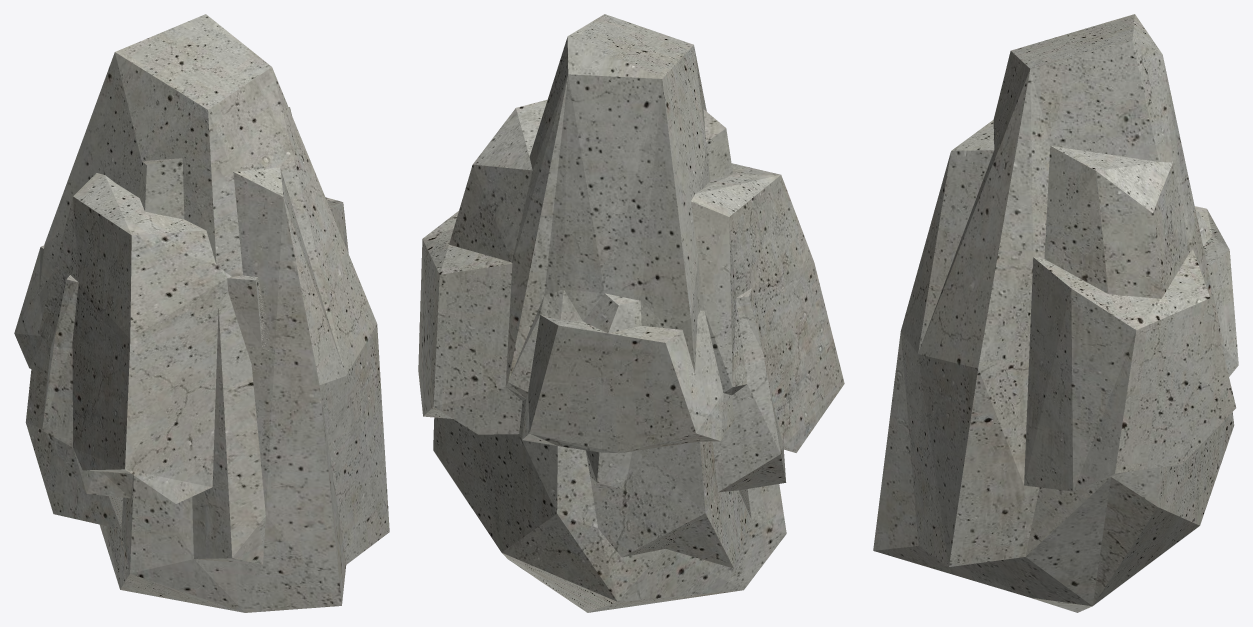
The model's file is aster v4.gltf.
3 renders of one model, left to right at view 1: azimuth 30°, elevation 25°; view 2: azimuth 150°, elevation 25°; view 3: azimuth 270°, elevation 25°, orthographic. The views are drawn at different scales.
Visible parts, largest first — view 1: Aster-solid, aster.014, aster.007, aster.005, aster.003, Aster-exploded, aster.004; view 2: Aster-solid, Aster-exploded, aster.003, aster.016, aster.013; view 3: Aster-solid, aster.004, aster.003, aster.007, aster.016, aster.013.
Boxes of the visible parts, <box> form: Aster-solid: <box>14,14,389,612</box>; aster.014: <box>108,348,328,528</box>; aster.007: <box>270,482,346,604</box>; aster.005: <box>262,199,318,384</box>; aster.003: <box>78,56,287,168</box>; Aster-exploded: <box>45,151,94,241</box>; aster.004: <box>280,157,375,373</box>; Aster-solid: <box>418,14,844,612</box>; Aster-exploded: <box>508,178,690,377</box>; aster.003: <box>533,74,689,202</box>; aster.016: <box>449,418,501,551</box>; aster.013: <box>513,171,584,261</box>; Aster-solid: <box>873,14,1238,612</box>; aster.004: <box>919,146,1049,367</box>; aster.003: <box>995,59,1182,161</box>; aster.007: <box>873,427,918,549</box>; aster.016: <box>1170,457,1199,524</box>; aster.013: <box>1173,153,1192,244</box>.
Size of the model in its own units: 3.24 by 5.27 by 3.08.
1 material, 1 textured.
